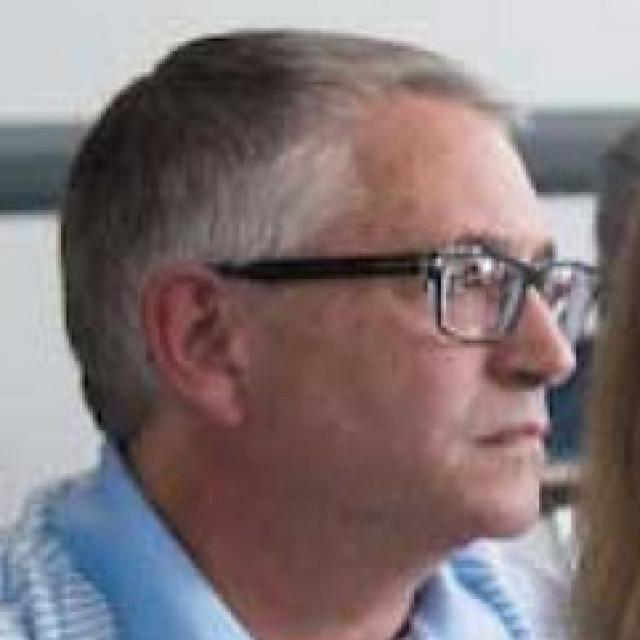Attentive: (234, 87, 581, 542)
